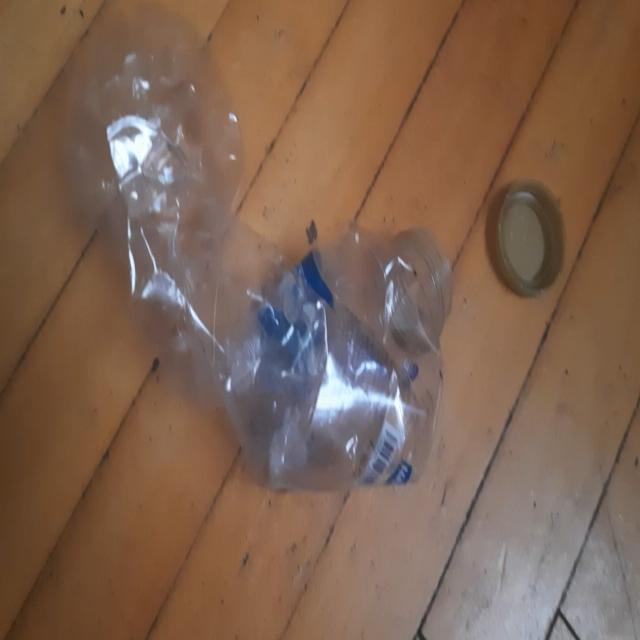Plastic: (99, 16, 449, 492)
